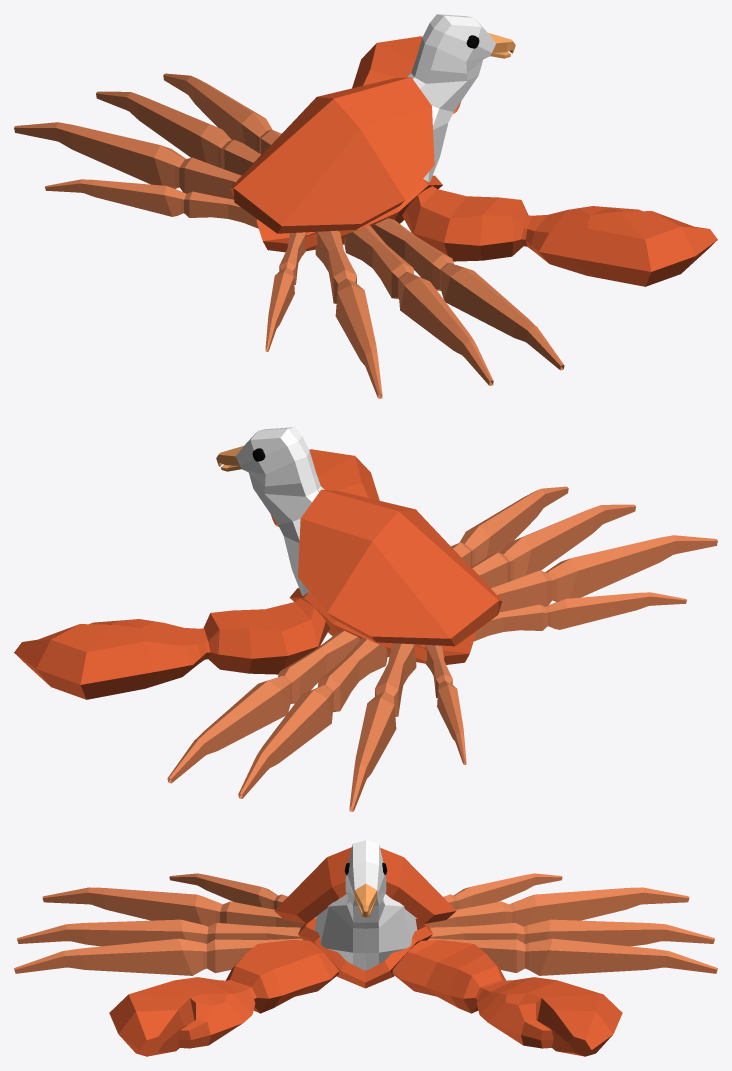
Rendered from craba_galeb_rig.fbx.
The picture shows the model from 3 angles, top to bottom: view 1: azimuth 30°, elevation 25°; view 2: azimuth 150°, elevation 25°; view 3: azimuth 270°, elevation 25°; orthographic projection. The views are drawn at different scales.
Visible parts, largest first — view 1: Plane.006; view 2: Plane.006; view 3: Plane.006.
Part boxes in pixels (<box>): Plane.006: <box>14,14,717,398</box>; Plane.006: <box>14,427,717,811</box>; Plane.006: <box>14,840,717,1056</box>.
Size of the model in its own units: 180 by 80.11 by 284.
